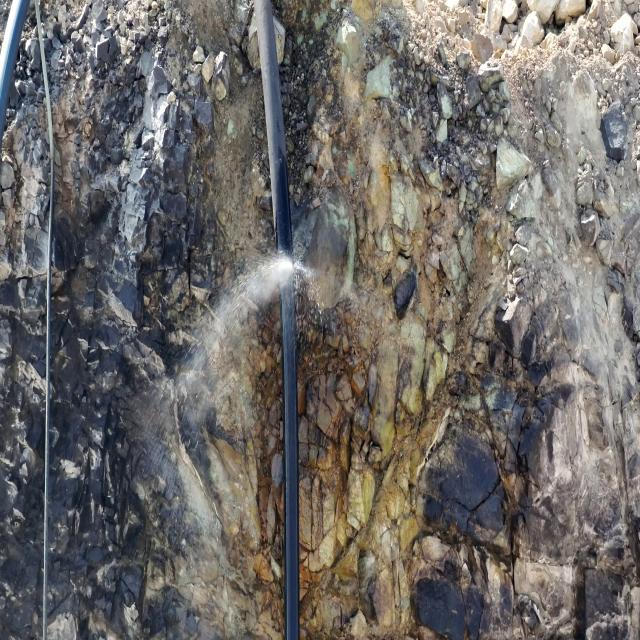leak: (132, 230, 337, 515)
